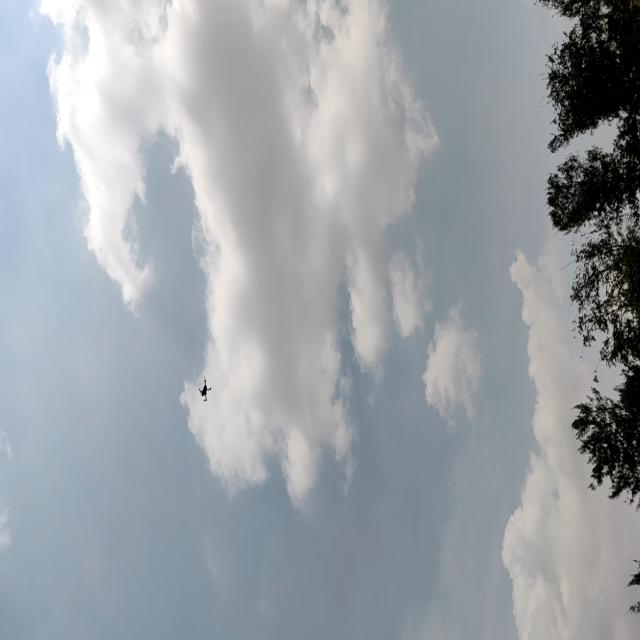drone: (194, 366, 214, 411)
